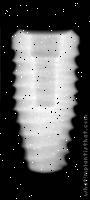BioHorizons: (11, 30, 80, 173)
